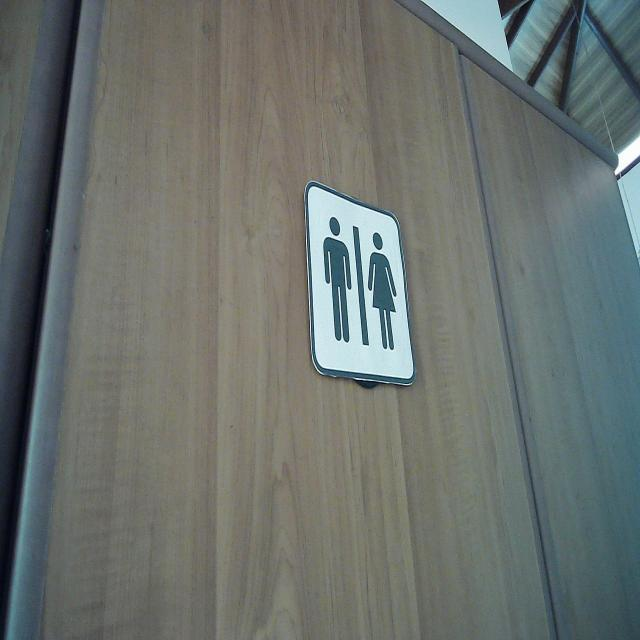restroom: (302, 178, 418, 390)
